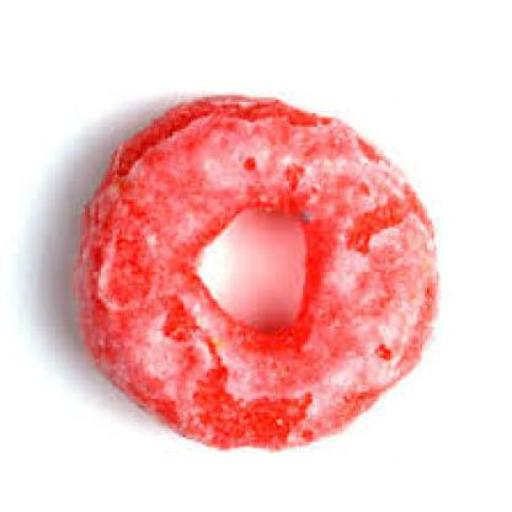biodegradable: (78, 88, 434, 449)
